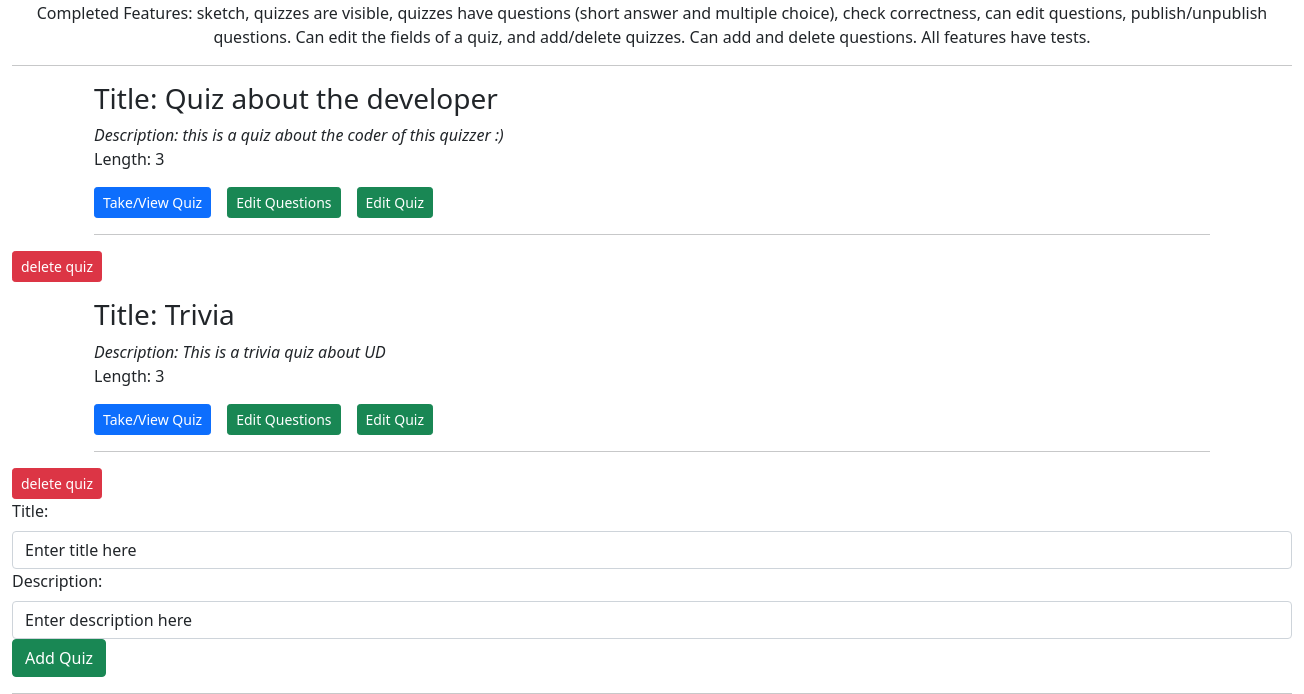
Test: Quizzer Tests › Edit Quiz title
(page scrolled)
Click the button "Edit Quiz" below "Quiz about the developer": click(395, 203) [356,187,433,218]
(page scrolled)
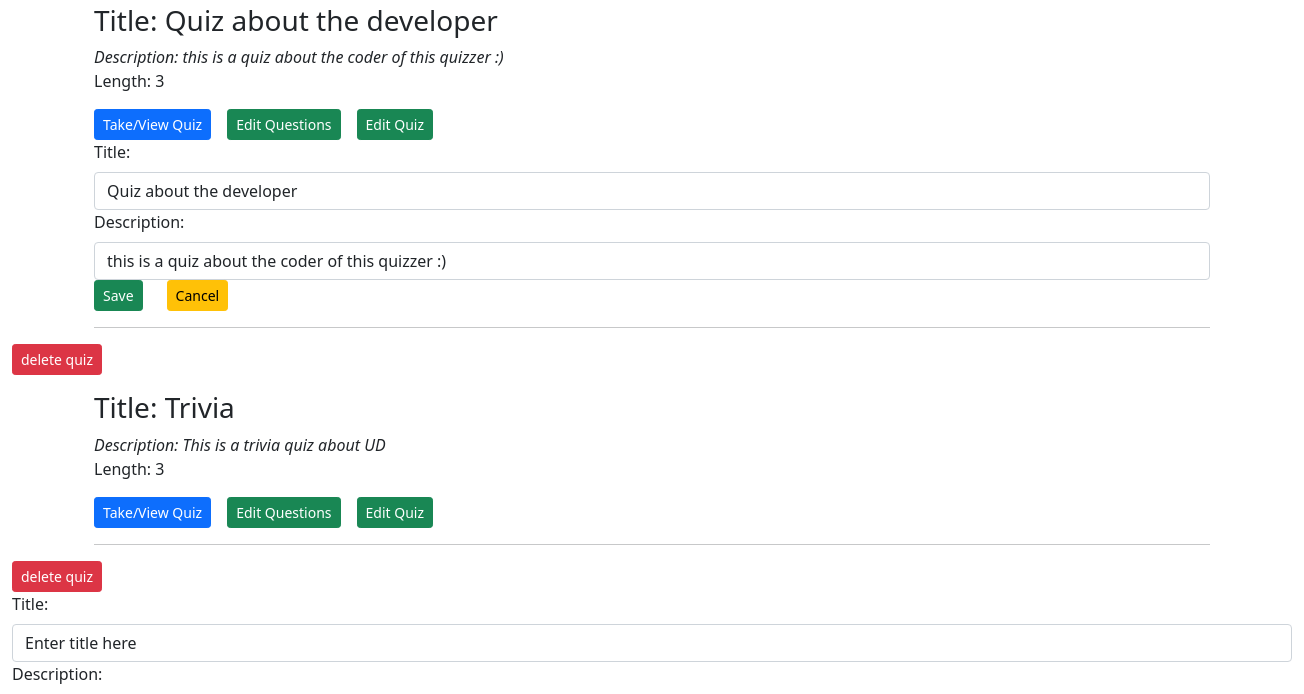
In the field labelled "Title:" below "Quiz about the developer": (652, 191) [94,172,1210,210], type "i am editing quiz title"
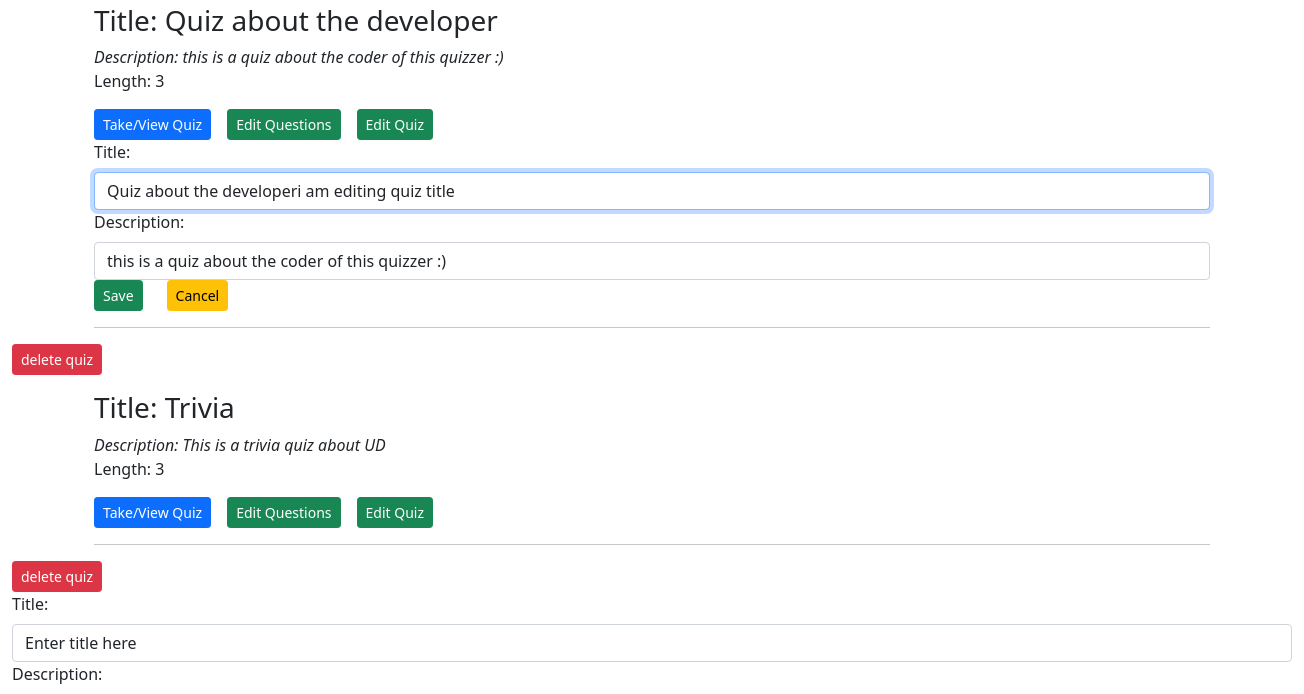
Click the button with test id "savequiz": click(118, 296) [94,280,143,311]
(page scrolled)
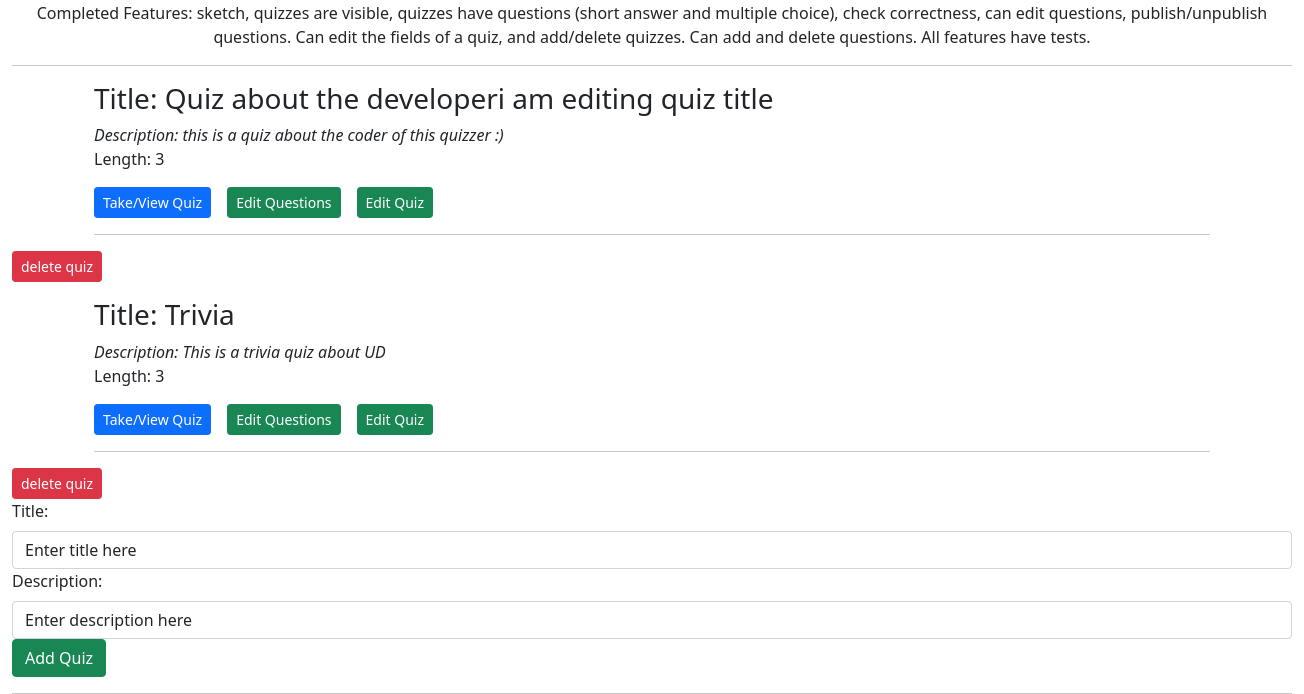
Check: the heading "i am editing quiz title" is shown, box [165,79,774,117]
